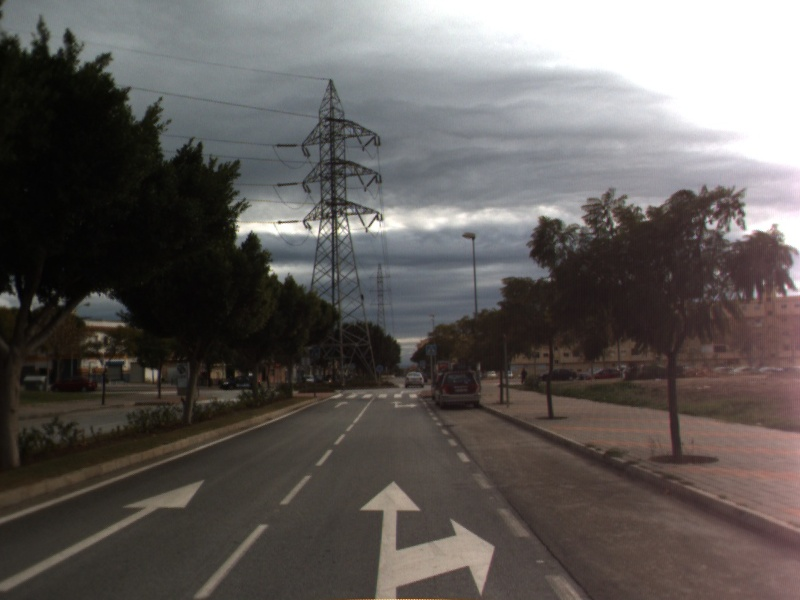STRAIGHT: (1, 478, 206, 593), (332, 399, 351, 410)
STRAIGHT_RIGHT: (358, 478, 497, 600), (388, 398, 420, 410)
